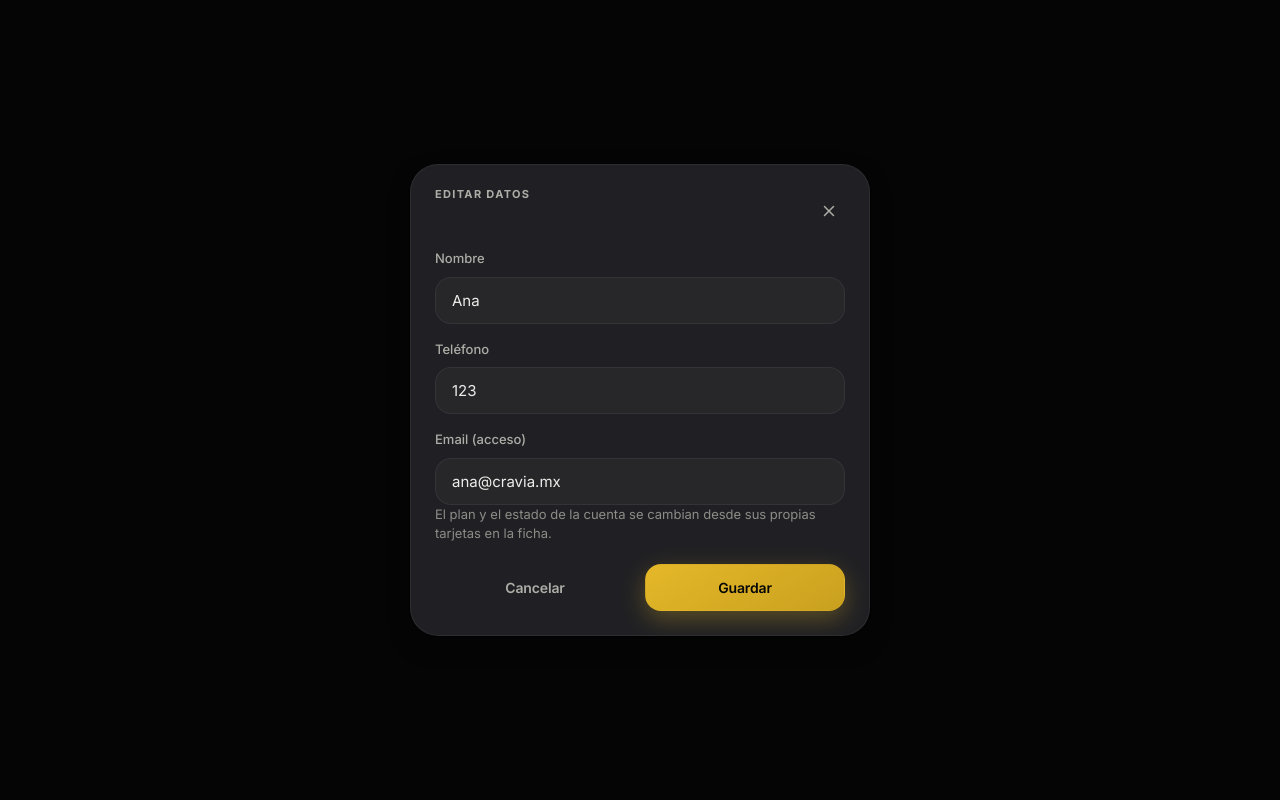
Test: EditarMiembroModal · solo contacto (R5) › avisa que cambiar el email cambia el acceso
expect the text "inicia sesión" is not shown: met
Replace the text in the field labelled "Email (acceso)" with "nueva@cravia.mx". click: (640, 481)
box: [435, 458, 845, 505]
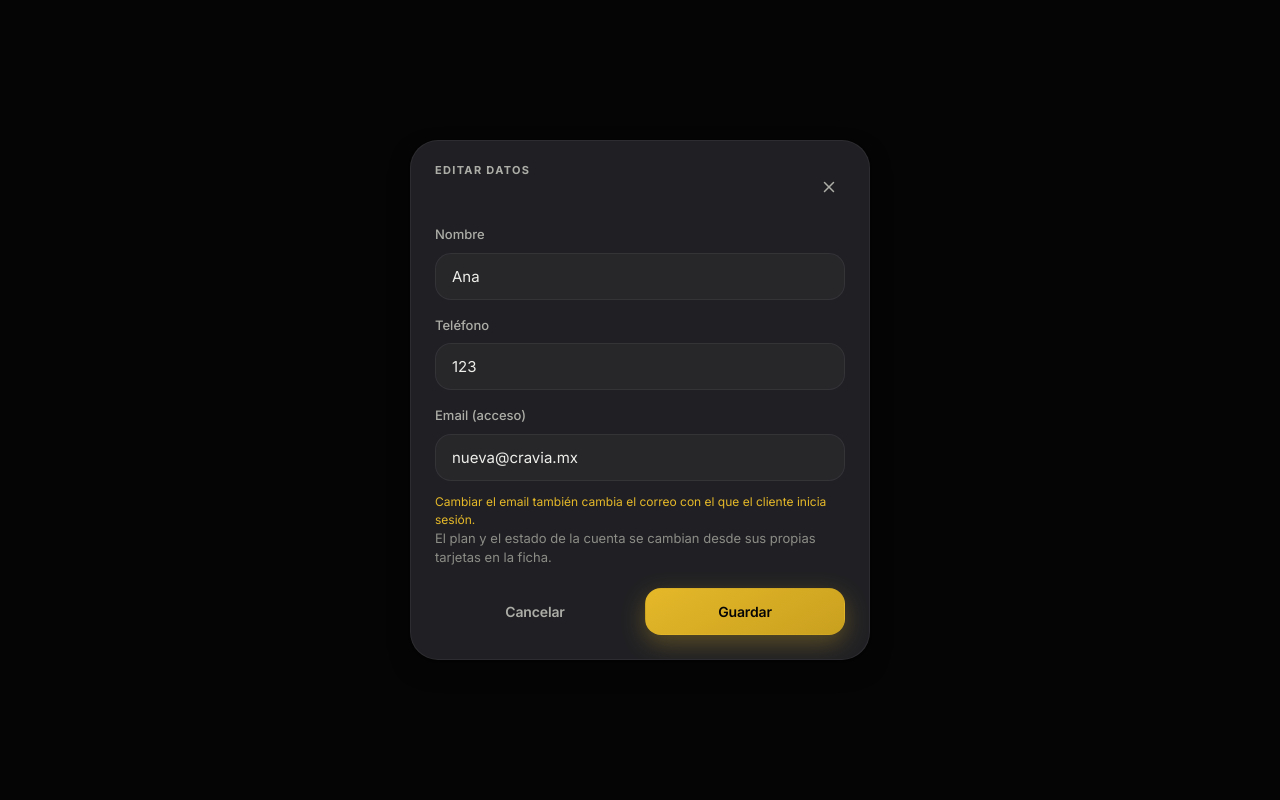
expect the text "también cambia el correo con el que el cliente inicia sesión" is shown: met, box [435, 494, 826, 527]
